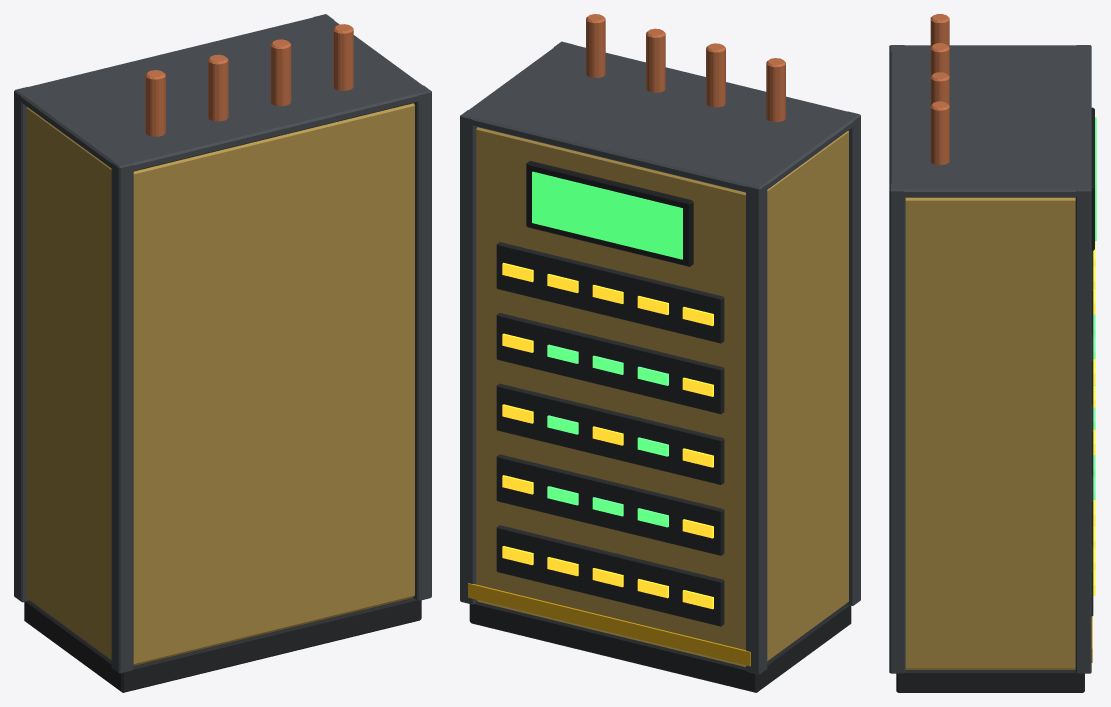
The model's file is power_distributor.glb.
3 renders of one model, left to right at view 1: azimuth 30°, elevation 25°; view 2: azimuth 150°, elevation 25°; view 3: azimuth 270°, elevation 25°, orthographic. The views are drawn at different scales.
Parts seen in each view (by area): view 1: power_distributor; view 2: power_distributor; view 3: power_distributor.
Boxes of the visible parts, bbox=[...] form: power_distributor: bbox=[14, 14, 431, 692]; power_distributor: bbox=[460, 14, 860, 692]; power_distributor: bbox=[889, 14, 1096, 692].
Bounding box in the file's own units: 1 × 1.8 × 0.6.
